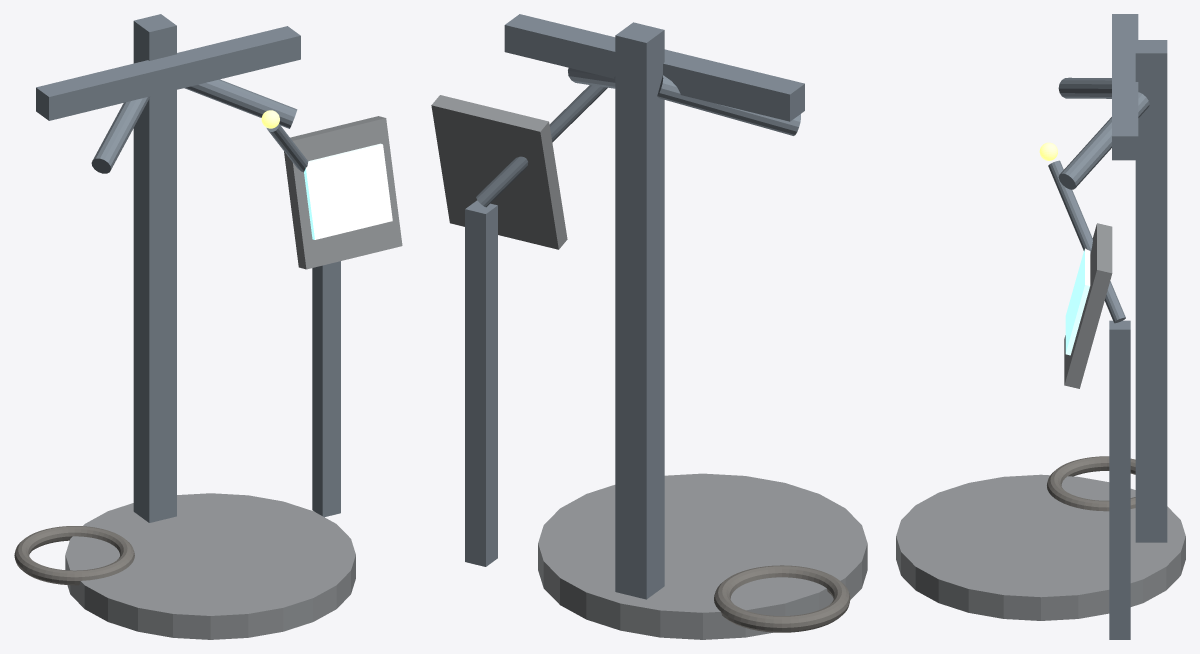
The model's file is suit-stand.glb.
3 renders of one model, left to right at view 1: azimuth 30°, elevation 25°; view 2: azimuth 150°, elevation 25°; view 3: azimuth 270°, elevation 25°, orthographic. The views are drawn at different scales.
Parts seen in each view (by area): view 1: Base.001, Post, CrossBar, Panel, PanelPost, PanelScreen, CableCoil, ArmR, ArmL, LampArm; view 2: Base.001, Post, Panel, PanelPost, CrossBar, CableCoil, LampArm, ArmL; view 3: Base.001, Post, PanelPost, CrossBar, Panel, CableCoil, ArmR, LampArm, PanelScreen, ArmL.
Boxes of the visible parts, box(x1,y1,x2,y2) form: Base.001: box(65, 493, 355, 639); Post: box(133, 14, 176, 522); CrossBar: box(36, 26, 300, 120); Panel: box(284, 116, 402, 269); PanelPost: box(312, 261, 340, 517); PanelScreen: box(304, 143, 392, 239); CableCoil: box(14, 526, 134, 585); ArmR: box(184, 79, 297, 128); ArmL: box(91, 96, 150, 173); LampArm: box(266, 124, 308, 172); Base.001: box(538, 473, 867, 639); Post: box(615, 22, 664, 599); Panel: box(431, 95, 567, 249); PanelPost: box(465, 200, 497, 566); CrossBar: box(504, 14, 804, 121); CableCoil: box(714, 565, 850, 632); LampArm: box(476, 85, 607, 207); ArmL: box(657, 75, 800, 135); Base.001: box(896, 474, 1185, 620); Post: box(1135, 40, 1167, 542); PanelPost: box(1109, 320, 1130, 639); CrossBar: box(1112, 14, 1138, 160); Panel: box(1064, 223, 1112, 388); CableCoil: box(1047, 456, 1135, 511); ArmR: box(1058, 92, 1149, 189); LampArm: box(1048, 160, 1125, 323); PanelScreen: box(1065, 248, 1090, 355); ArmL: box(1058, 77, 1111, 98).
Bounding box in the file's own units: 1.57 × 2.15 × 1.1.
